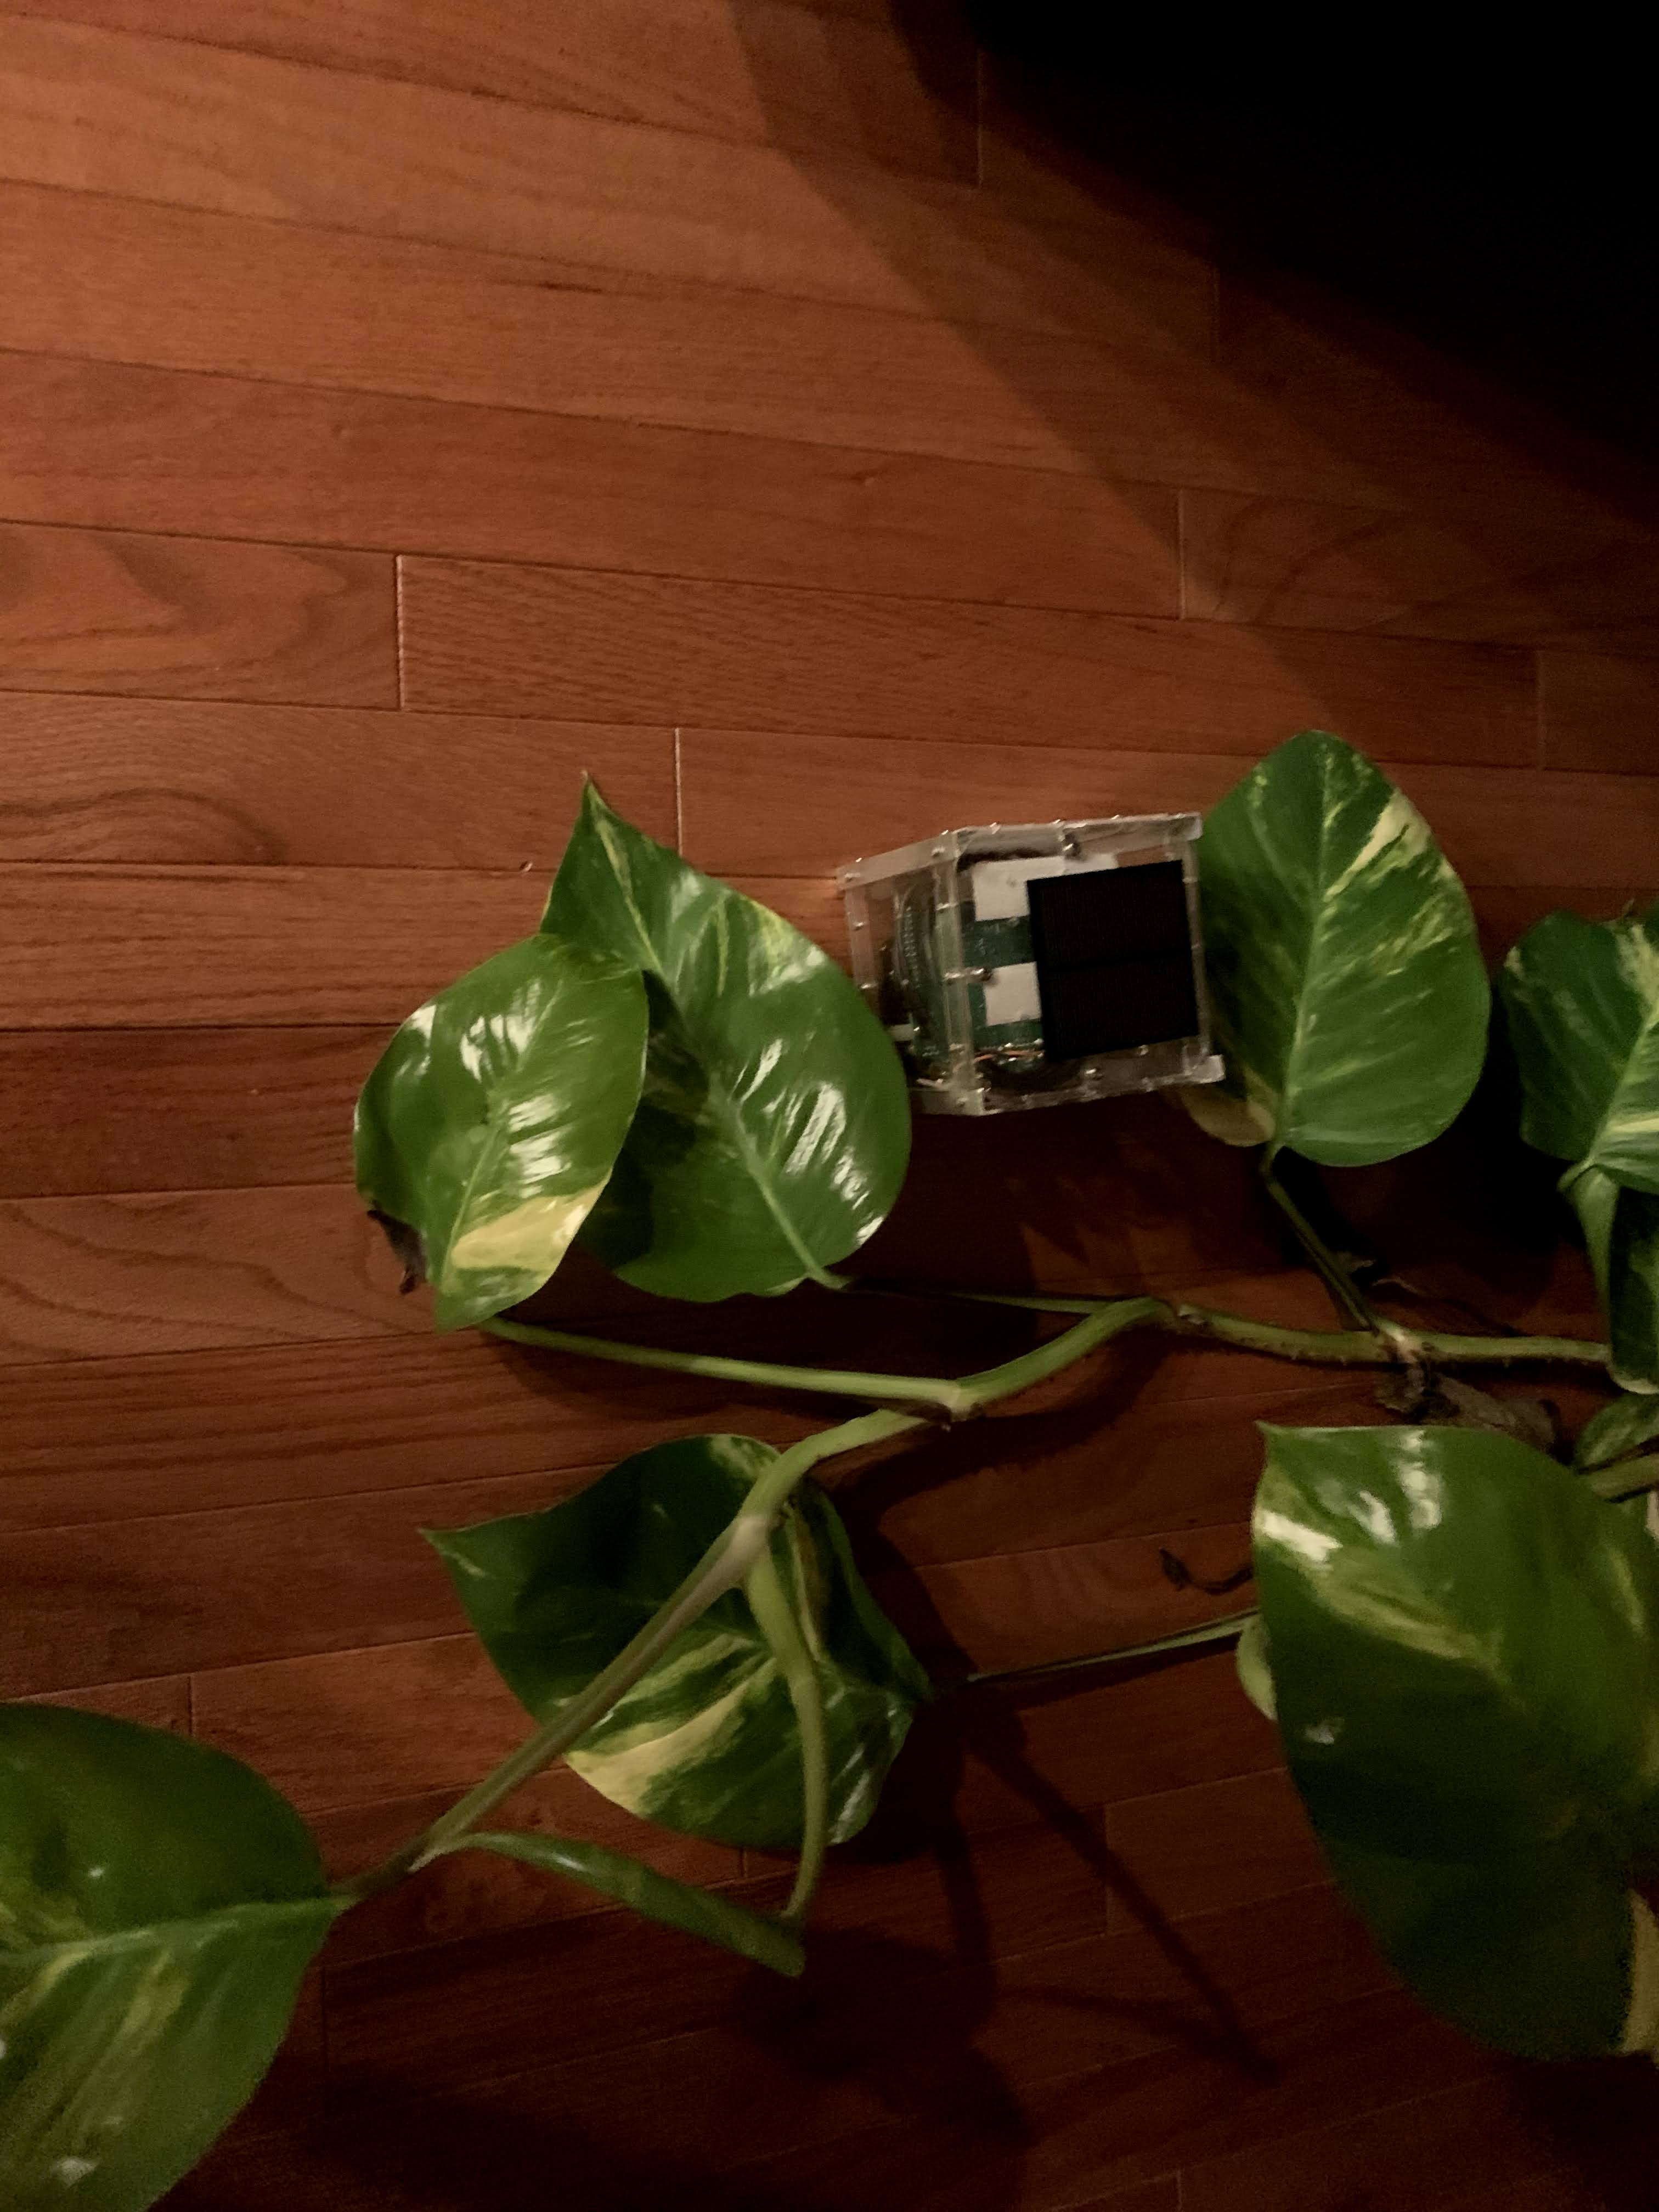Space-debris-cubesat: (807, 782, 1267, 1160)
